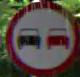No overtake: (6, 3, 77, 72)
